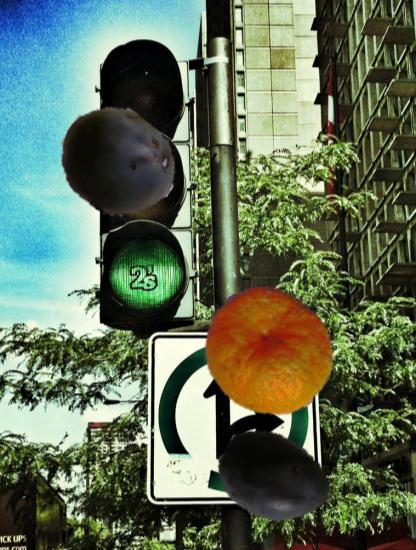Mandarine: (202, 284, 336, 418)
Plum: (58, 102, 179, 223), (216, 422, 332, 538)
